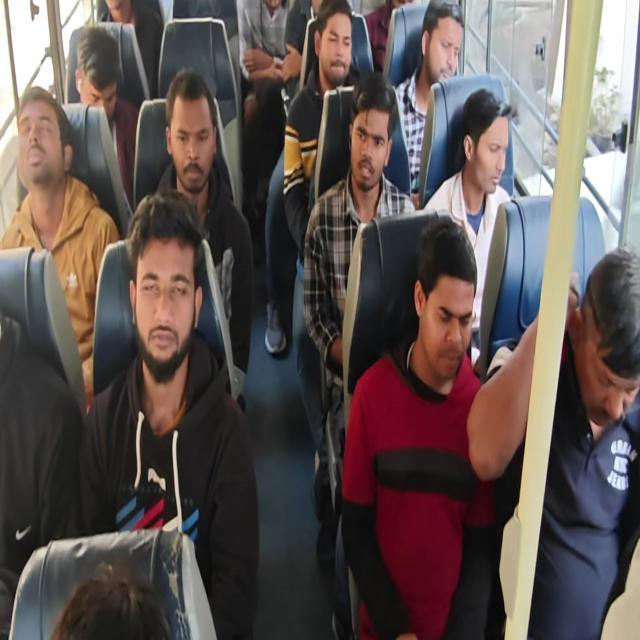person: (1, 1, 638, 638), (79, 188, 260, 638), (466, 244, 639, 638), (340, 218, 497, 638), (302, 70, 416, 636), (281, 0, 358, 516), (0, 85, 120, 412), (154, 68, 254, 410), (0, 316, 84, 638), (422, 87, 512, 364), (282, 0, 356, 265), (391, 0, 465, 202), (236, 0, 301, 214), (74, 25, 139, 212), (50, 560, 171, 638), (99, 0, 164, 100), (360, 0, 416, 74)
